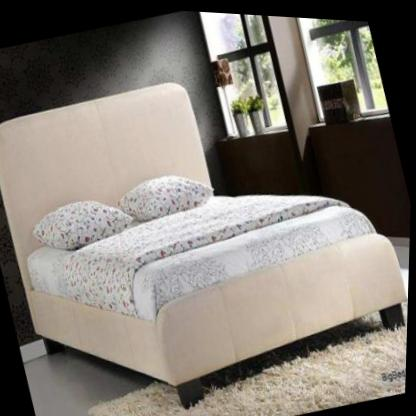Bed: (0, 82, 410, 387)
Carpet: (88, 298, 410, 416)
